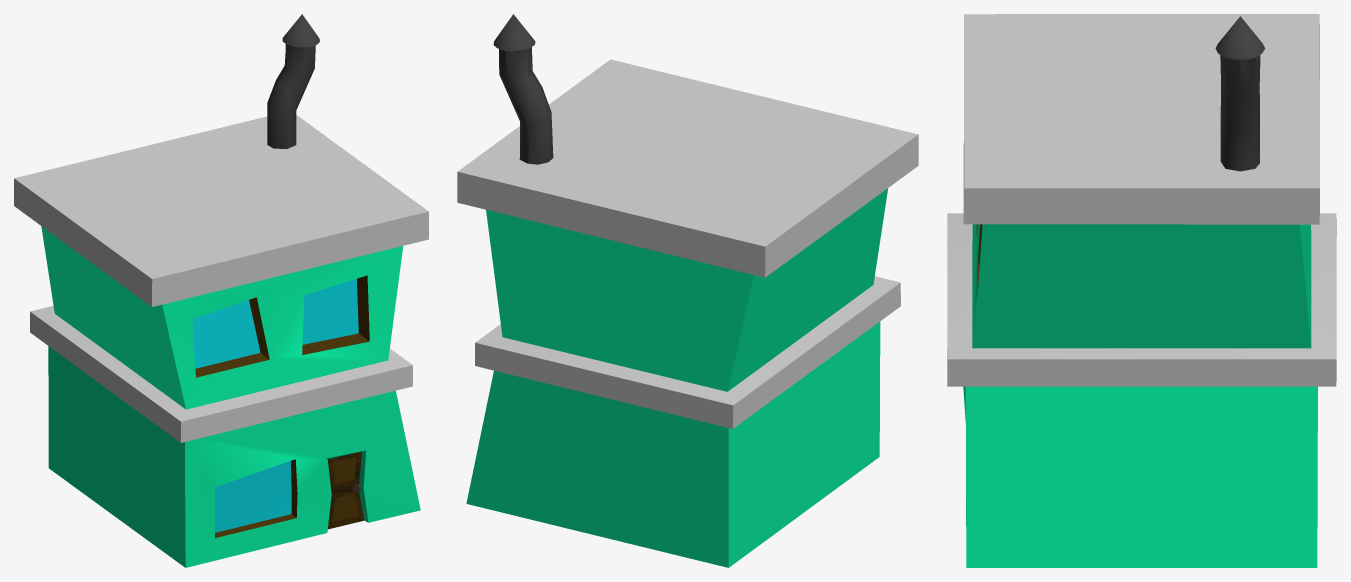
File: PredioPequeno-CianoLOD1.fbx
3 renders of one model, left to right at view 1: azimuth 30°, elevation 25°; view 2: azimuth 150°, elevation 25°; view 3: azimuth 270°, elevation 25°, orthographic. The views are drawn at different scales.
Parts seen in each view (by area): view 1: Predio2AndaresLOD1; view 2: Predio2AndaresLOD1; view 3: Predio2AndaresLOD1.
Boxes of the visible parts, box(x1,y1,x2,y2) form: Predio2AndaresLOD1: box(14, 14, 428, 567); Predio2AndaresLOD1: box(457, 14, 918, 567); Predio2AndaresLOD1: box(947, 14, 1336, 567).
Bounding box in the file's own units: 712 × 1035 × 672.
